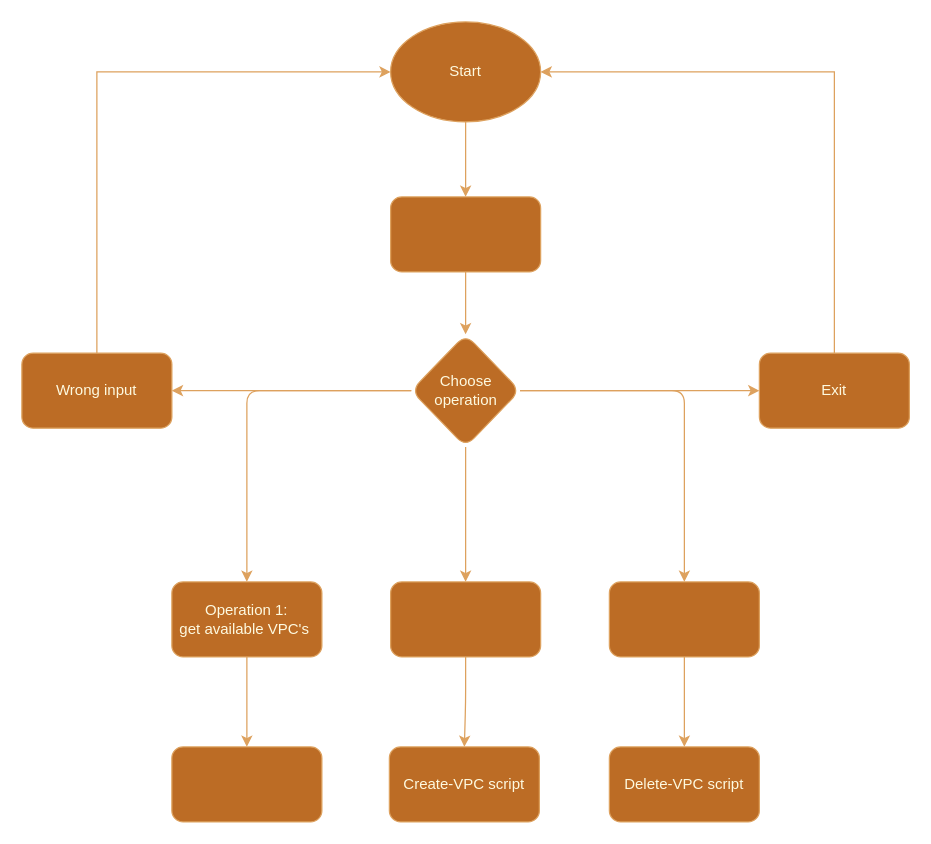
The diagram is 931 pixels wide and 844 high, and some of its shapes have lost their labels. Here are the shapes that lost their labels. From the top down, the box of each, then its label:
(389, 196, 541, 272): VPC-Script
(389, 581, 541, 657): Operation 2: create VPC
(608, 581, 759, 657): Operation 3: delete VPC
(171, 746, 322, 822): Get-VPC script
